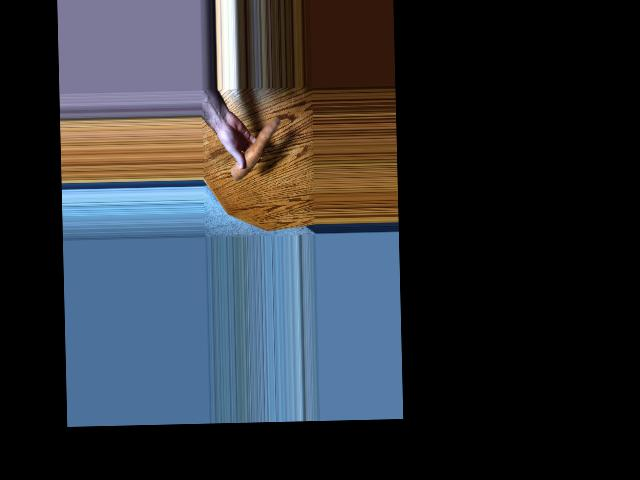sweet_potato: (228, 117, 279, 175)
